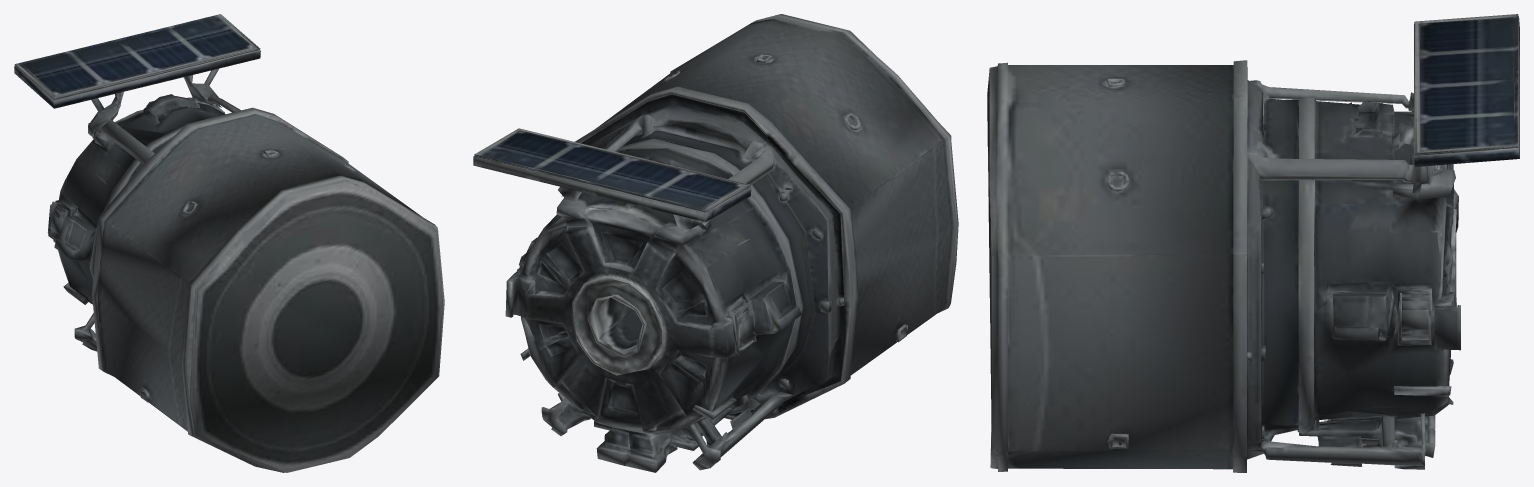
The model's file is l_satellite.glb.
3 renders of one model, left to right at view 1: azimuth 30°, elevation 25°; view 2: azimuth 150°, elevation 25°; view 3: azimuth 270°, elevation 25°, orthographic. The views are drawn at different scales.
Size of the model in its own units: 0.7056 by 0.732 by 0.9521.
Materials: 1 (1 with a texture image).
